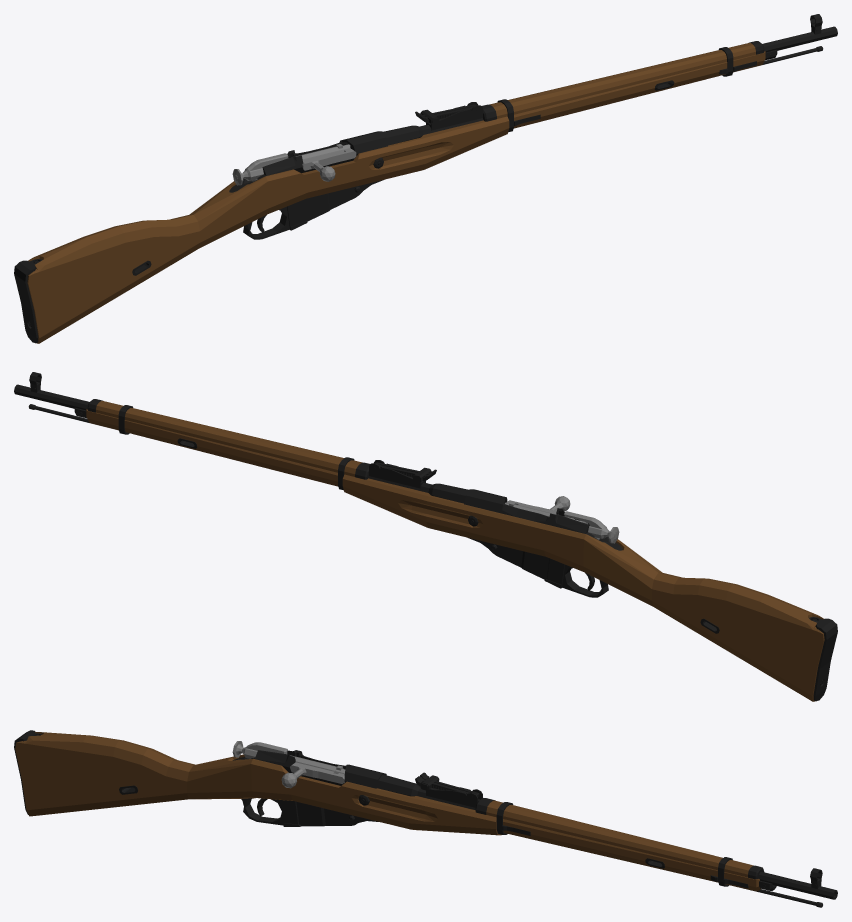
File: low-poly_mosin_nagant_189130.glb
3 renders of one model, top to bottom at view 1: azimuth 30°, elevation 25°; view 2: azimuth 150°, elevation 25°; view 3: azimuth 330°, elevation 25°, orthographic.
Parts seen in each view (by area): view 1: mosin9130 stock_7, mosin9130 handguard upper_8, mosin9130 receiver_3, mosin9130 barrel_2, mosin9130 bolt head_5, mosin9130 bolt body_6; view 2: mosin9130 stock_7, mosin9130 handguard upper_8, mosin9130 receiver_3, mosin9130 barrel_2, mosin9130 bolt body_6; view 3: mosin9130 stock_7, mosin9130 handguard upper_8, mosin9130 receiver_3, mosin9130 barrel_2, mosin9130 bolt head_5, mosin9130 bolt body_6.
Boxes of the visible parts, x1,y1,x2,y2 form: mosin9130 stock_7: [14, 46, 823, 343]; mosin9130 handguard upper_8: [481, 41, 764, 132]; mosin9130 receiver_3: [229, 131, 387, 239]; mosin9130 barrel_2: [383, 14, 837, 145]; mosin9130 bolt head_5: [295, 144, 356, 181]; mosin9130 bolt body_6: [232, 144, 344, 185]; mosin9130 stock_7: [28, 404, 837, 701]; mosin9130 handguard upper_8: [87, 399, 370, 490]; mosin9130 receiver_3: [464, 489, 622, 597]; mosin9130 barrel_2: [14, 372, 468, 503]; mosin9130 bolt body_6: [509, 502, 619, 543]; mosin9130 stock_7: [14, 730, 822, 907]; mosin9130 handguard upper_8: [475, 798, 764, 886]; mosin9130 receiver_3: [233, 750, 386, 826]; mosin9130 barrel_2: [377, 772, 837, 899]; mosin9130 bolt head_5: [281, 755, 345, 788]; mosin9130 bolt body_6: [232, 741, 343, 773].
Size of the model in its own units: 12.39 by 2 by 0.8322.
